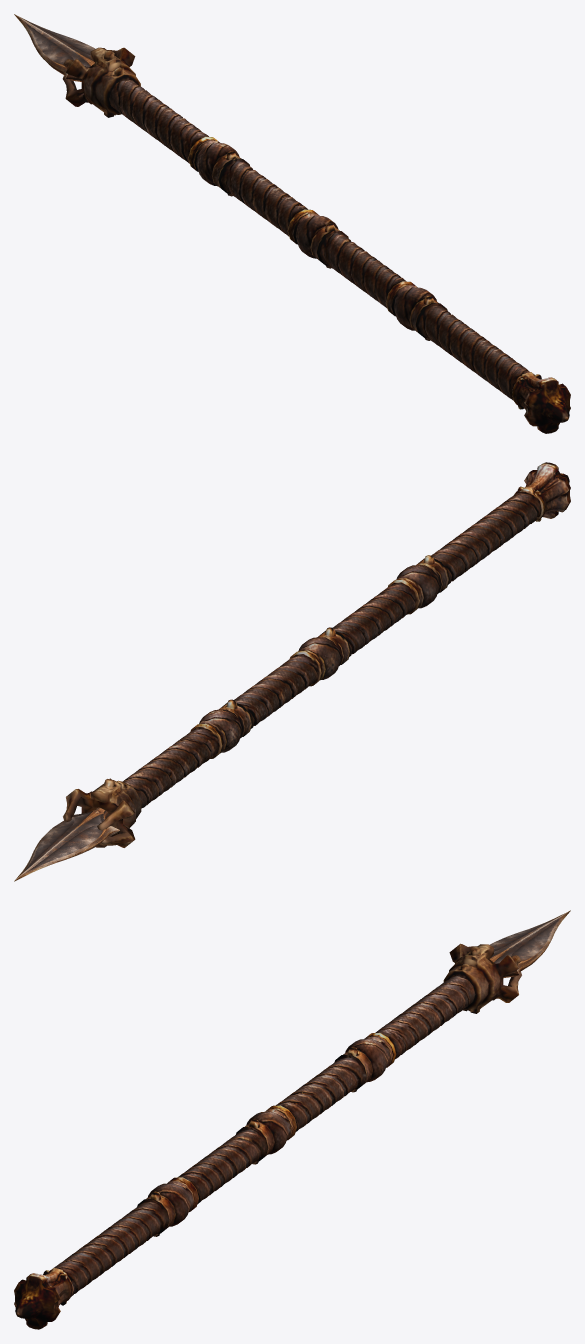
File: spear.glb
3 renders of one model, top to bottom at view 1: azimuth 30°, elevation 25°; view 2: azimuth 150°, elevation 25°; view 3: azimuth 330°, elevation 25°, orthographic.
Visible parts, largest first — view 1: Spear; view 2: Spear; view 3: Spear.
Boxes of the visible parts, x1,y1,x2,y2 form: Spear: (14, 14, 570, 433); Spear: (14, 462, 570, 881); Spear: (14, 910, 570, 1329).
Size of the model in its own units: 0.1962 by 0.1738 by 2.74.
Materials: 3 (3 with a texture image).
